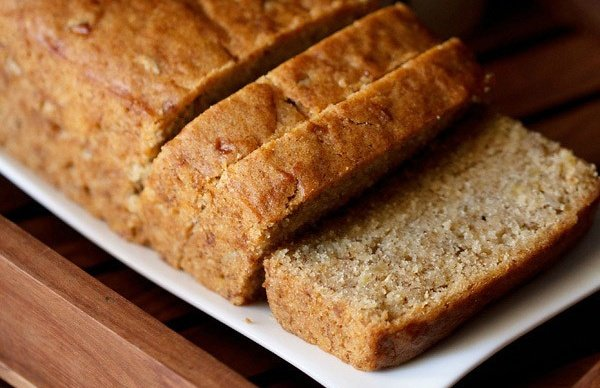Bread: (13, 4, 592, 353)
